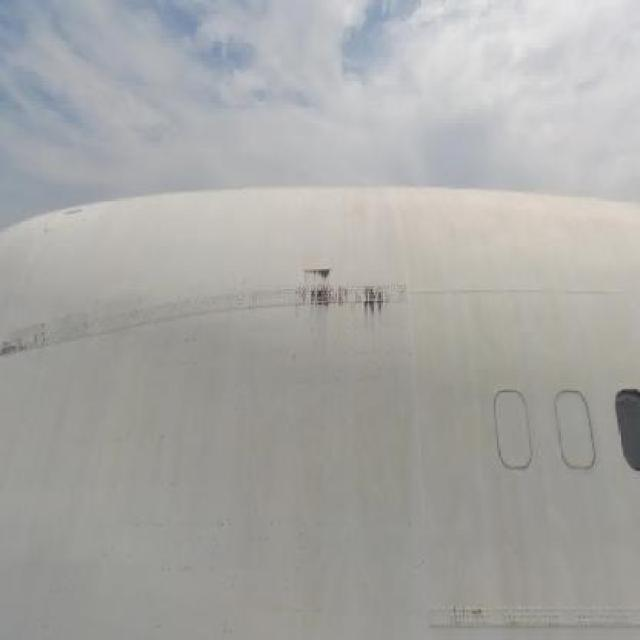Rust: (288, 255, 441, 332)
Scartch: (1, 325, 73, 367)
